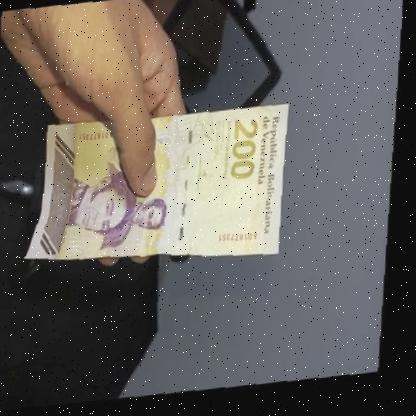two_hundred-front-vef: (19, 97, 300, 289)
